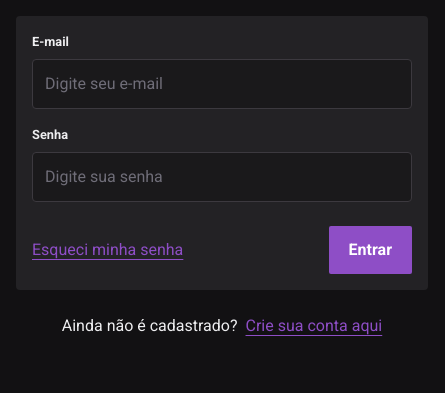
Test: LoginForm › should show validation errors
Click the button "Entrar" at (370, 250), box x1=329 y1=226 x2=412 y2=274
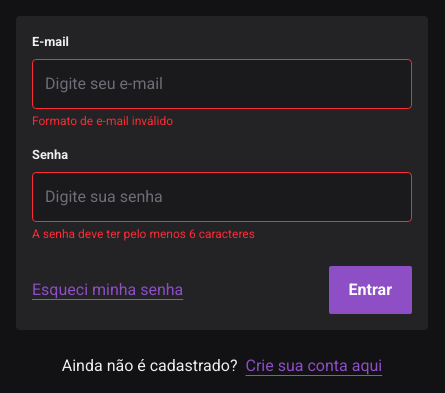
Result: the text "Formato de e-mail inválido" is shown at x1=32 y1=114 x2=173 y2=128
Result: the text "A senha deve ter pelo menos 6 caracteres" is shown at x1=32 y1=227 x2=255 y2=241
